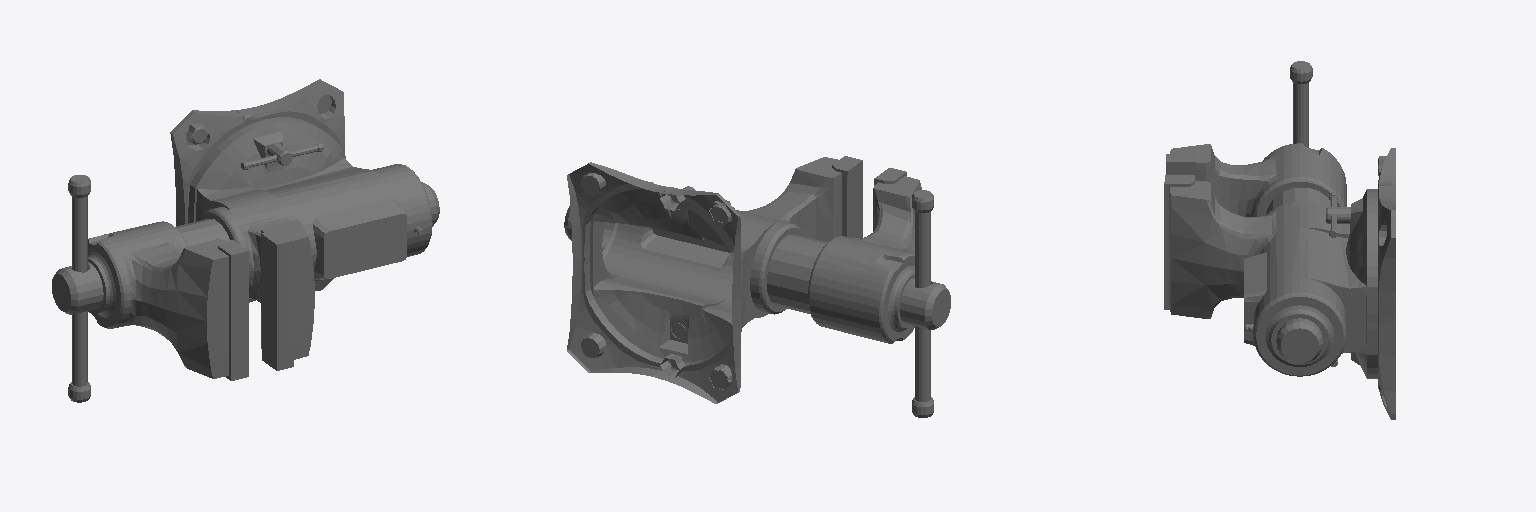
The model's file is benchVise.obj.
3 renders of one model, left to right at view 1: azimuth 30°, elevation 25°; view 2: azimuth 150°, elevation 25°; view 3: azimuth 270°, elevation 25°, orthographic.
Visible parts, largest first — view 1: body2_LP, body1_LP, grip2_LP, voorkantstaaf_LP, grip1_LP, voorkant_LP, midden_LP; view 2: body2_LP, body1_LP, voorkantstaaf_LP, midden_LP, voorkant_LP, grip2_LP; view 3: body2_LP, body1_LP, achterkant_LP, voorkantstaaf_LP, grip2_LP, midden_LP, grip1_LP.
Part boxes in pixels (x1,y1,x2,y2): body2_LP: (170,79,432,359); body1_LP: (88,221,228,378); grip2_LP: (261,231,293,370); voorkantstaaf_LP: (68,175,90,402); grip1_LP: (218,240,248,380); voorkant_LP: (52,262,103,314); midden_LP: (176,219,229,245); body2_LP: (567,157,841,403); body1_LP: (808,176,921,343); voorkantstaaf_LP: (912,190,933,417); midden_LP: (767,234,826,313); voorkant_LP: (899,278,950,329); grip2_LP: (832,156,862,237); body2_LP: (1169,148,1395,419); body1_LP: (1170,143,1346,216); achterkant_LP: (1276,318,1322,363); voorkantstaaf_LP: (1290,61,1312,147); grip2_LP: (1164,175,1194,309); midden_LP: (1266,188,1330,214); grip1_LP: (1166,153,1195,180).
Bounding box in the file's own units: 91.24 × 52.07 × 49.56.